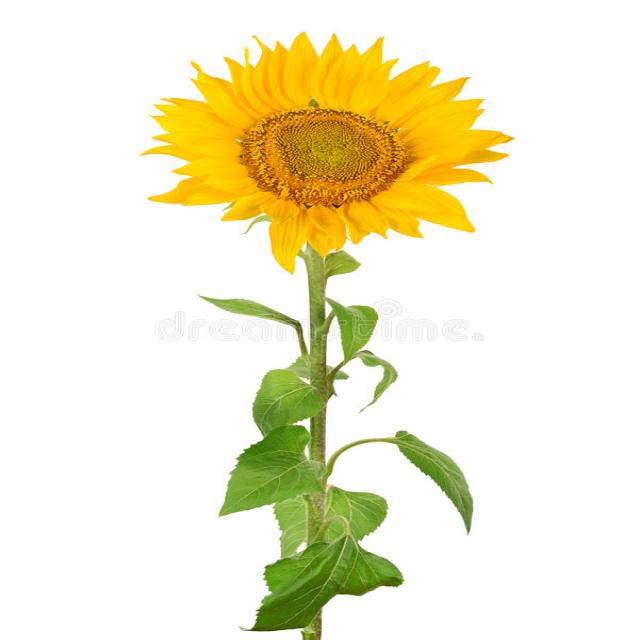sunflower: (123, 16, 548, 275)
